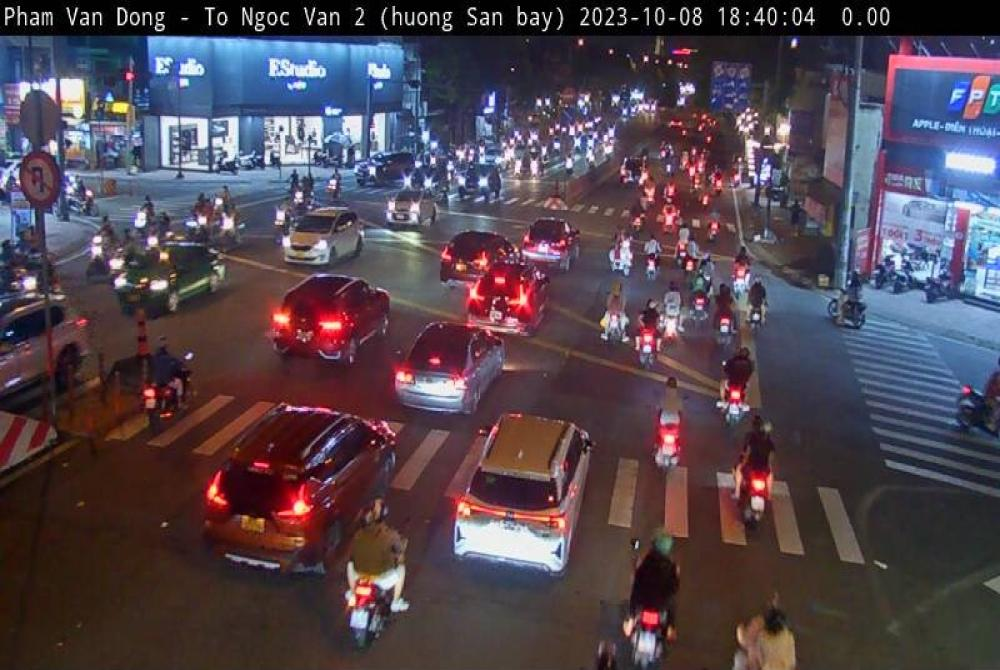car: (440, 405, 606, 646), (207, 382, 404, 572), (265, 261, 396, 385), (383, 314, 517, 434), (0, 285, 95, 398), (111, 226, 240, 302), (434, 261, 564, 329), (269, 180, 366, 268), (515, 202, 591, 258), (438, 232, 512, 285), (386, 184, 428, 240)
